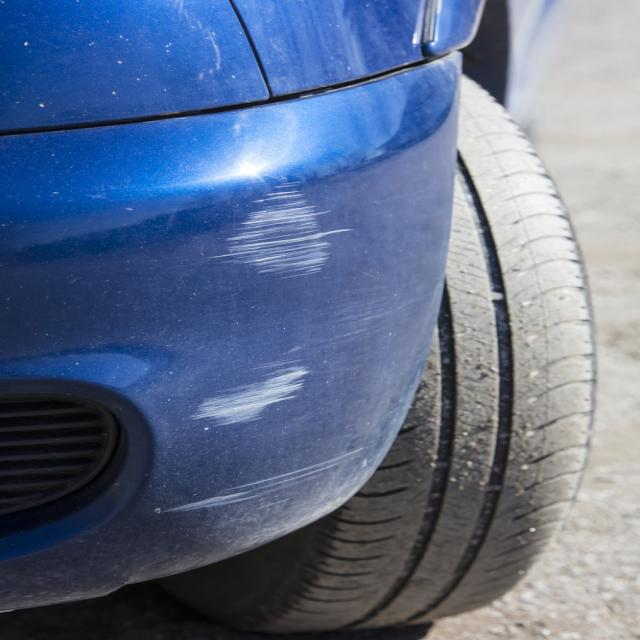scratch: (160, 438, 369, 513), (215, 174, 353, 280), (190, 344, 312, 428)
